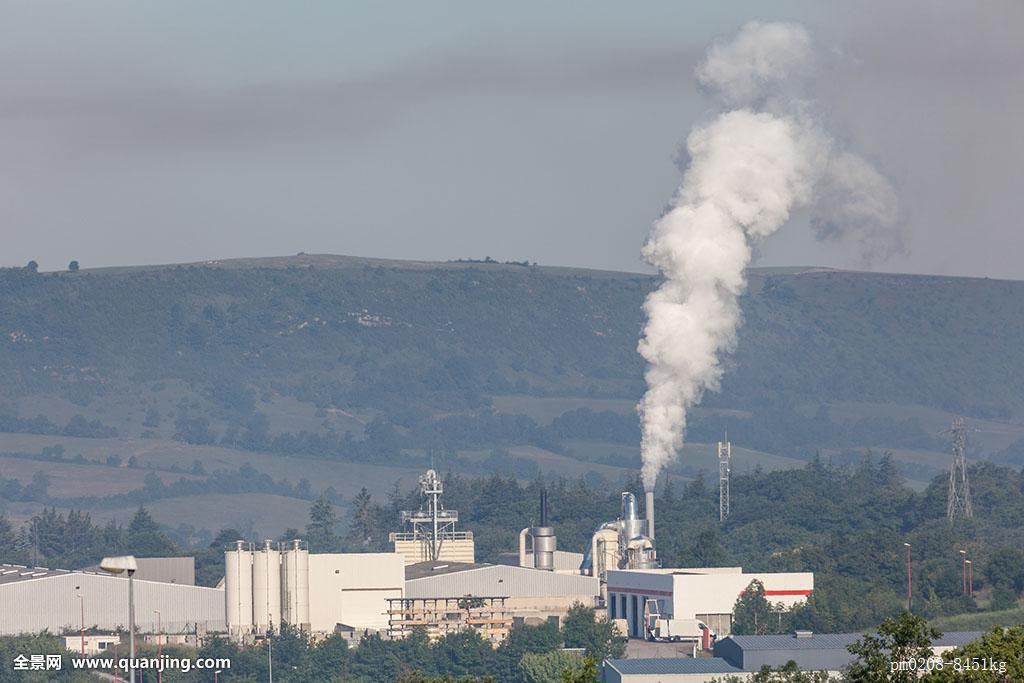dust: (629, 103, 796, 515)
